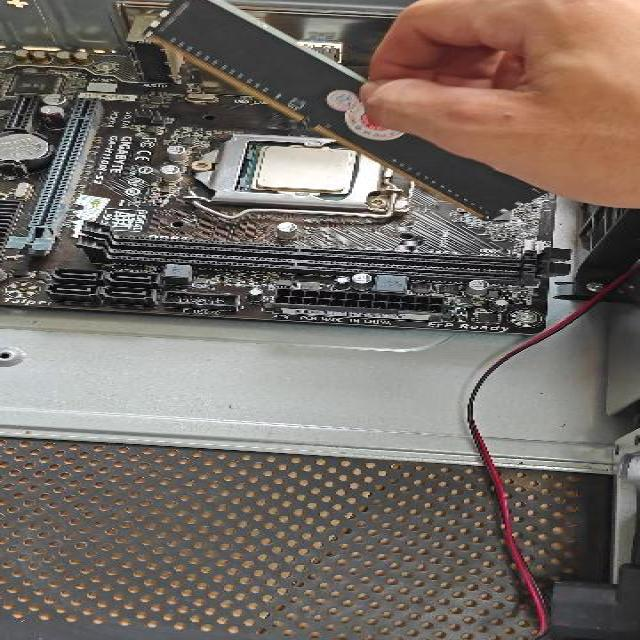CPU: (251, 148, 359, 194)
RAM: (99, 0, 553, 221)
